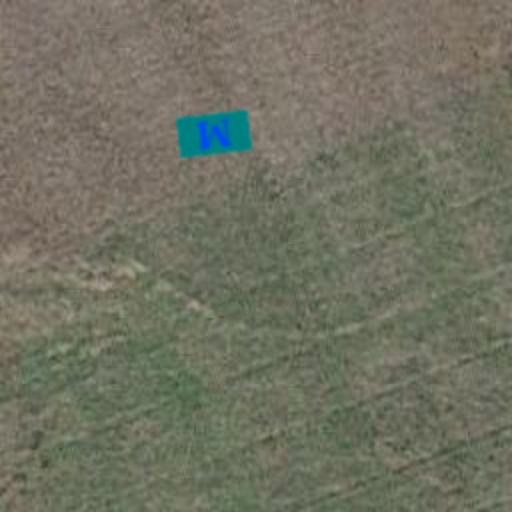rectangle: (172, 92, 256, 176)
